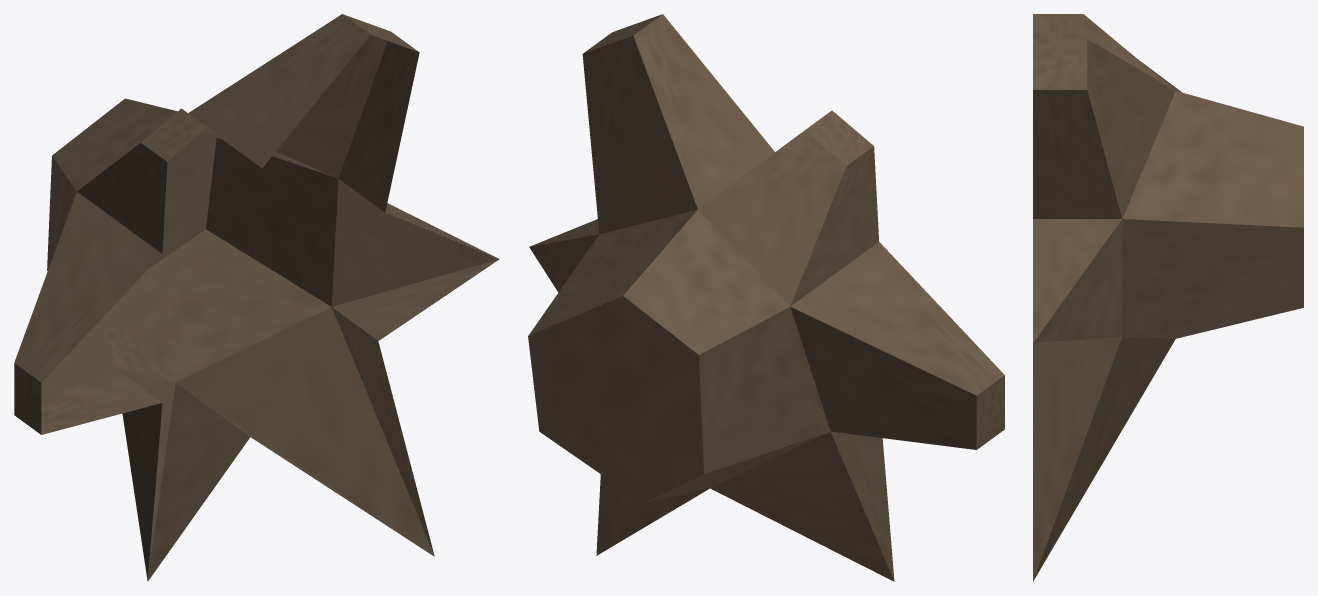
File: dead_tree_body_2.fbx
3 views of the same model, side by side, from view 1: azimuth 30°, elevation 25°; view 2: azimuth 150°, elevation 25°; view 3: azimuth 270°, elevation 25° (orthographic). The views are drawn at different scales.
Parts seen in each view (by area): view 1: Cylinder.011; view 2: Cylinder.011; view 3: Cylinder.011.
Part boxes in pixels (x1,y1,x2,y2): Cylinder.011: [14, 14, 499, 581]; Cylinder.011: [528, 14, 1004, 581]; Cylinder.011: [1033, 14, 1303, 581].
Bounding box in the file's own units: 323 × 362 × 173.
